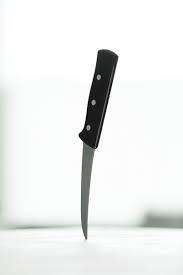Knife: (78, 48, 118, 239)
